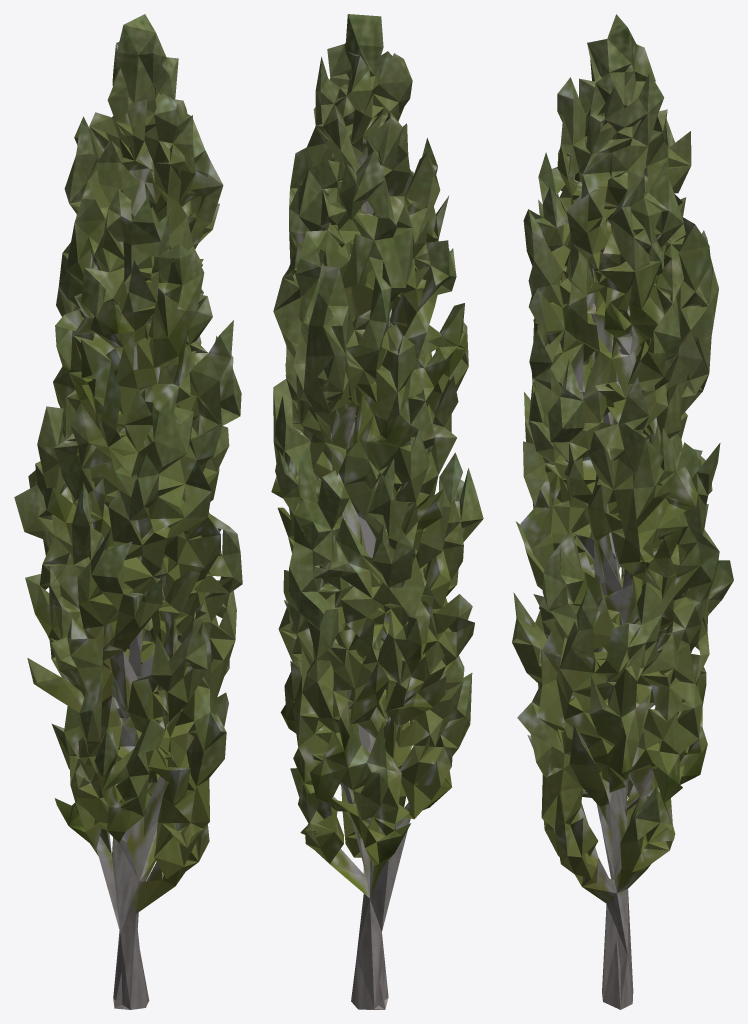
Rendered from tree_poplar_b.obj.
3 views of the same model, side by side, from view 1: azimuth 30°, elevation 25°; view 2: azimuth 150°, elevation 25°; view 3: azimuth 270°, elevation 25° (orthographic).
Visible parts, largest first — view 1: tree_poplar_b; view 2: tree_poplar_b; view 3: tree_poplar_b.
Boxes of the visible parts, x1,y1,x2,y2 form: tree_poplar_b: (14, 14, 242, 1009); tree_poplar_b: (271, 14, 483, 1009); tree_poplar_b: (512, 14, 733, 1009).
Size of the model in its own units: 3.49 by 18 by 3.68.
1 material, 1 textured.
